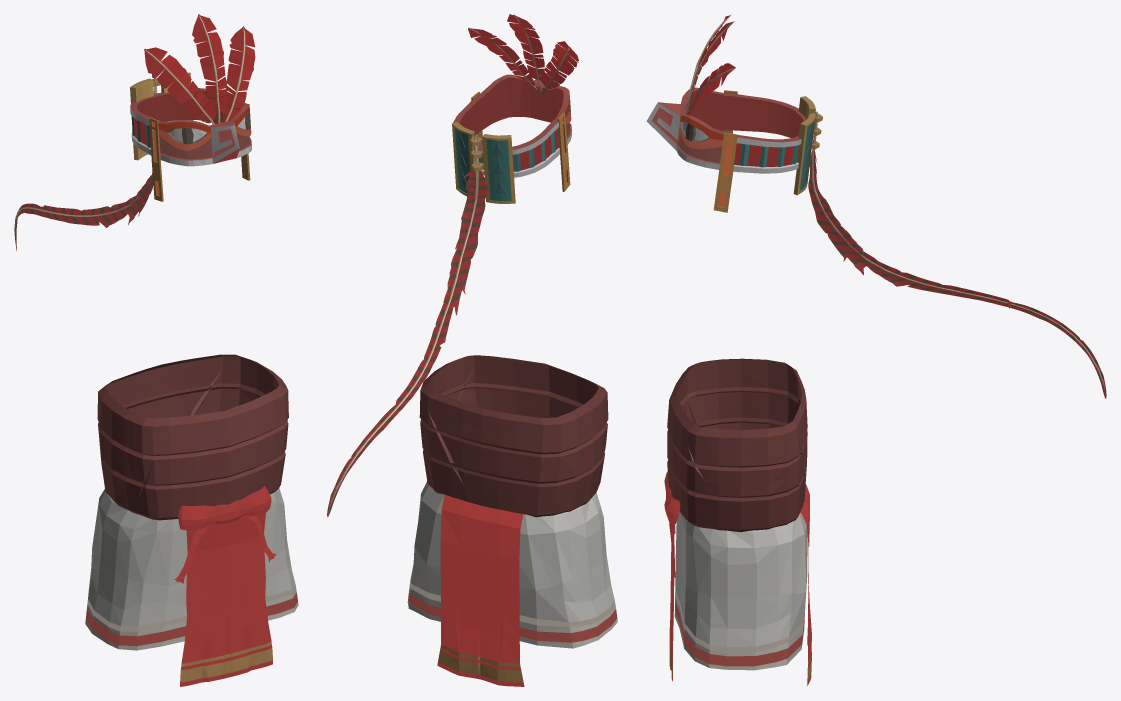
The model's file is aztecOllamalitzli.glb.
The picture shows the model from 3 angles, left to right: view 1: azimuth 30°, elevation 25°; view 2: azimuth 150°, elevation 25°; view 3: azimuth 270°, elevation 25°; orthographic projection.
Visible parts, largest first — view 1: aztecOllamalitzliArmor, aztecOllamalitzliHat; view 2: aztecOllamalitzliArmor, aztecOllamalitzliHat; view 3: aztecOllamalitzliArmor, aztecOllamalitzliHat.
Boxes of the visible parts, <box> form: aztecOllamalitzliArmor: <box>85,354,298,686</box>; aztecOllamalitzliHat: <box>14,14,255,250</box>; aztecOllamalitzliArmor: <box>407,355,617,686</box>; aztecOllamalitzliHat: <box>327,14,578,516</box>; aztecOllamalitzliArmor: <box>664,358,811,685</box>; aztecOllamalitzliHat: <box>646,14,1106,398</box>.
Bounding box in the file's own units: 0.5049 × 1.67 × 1.08.
